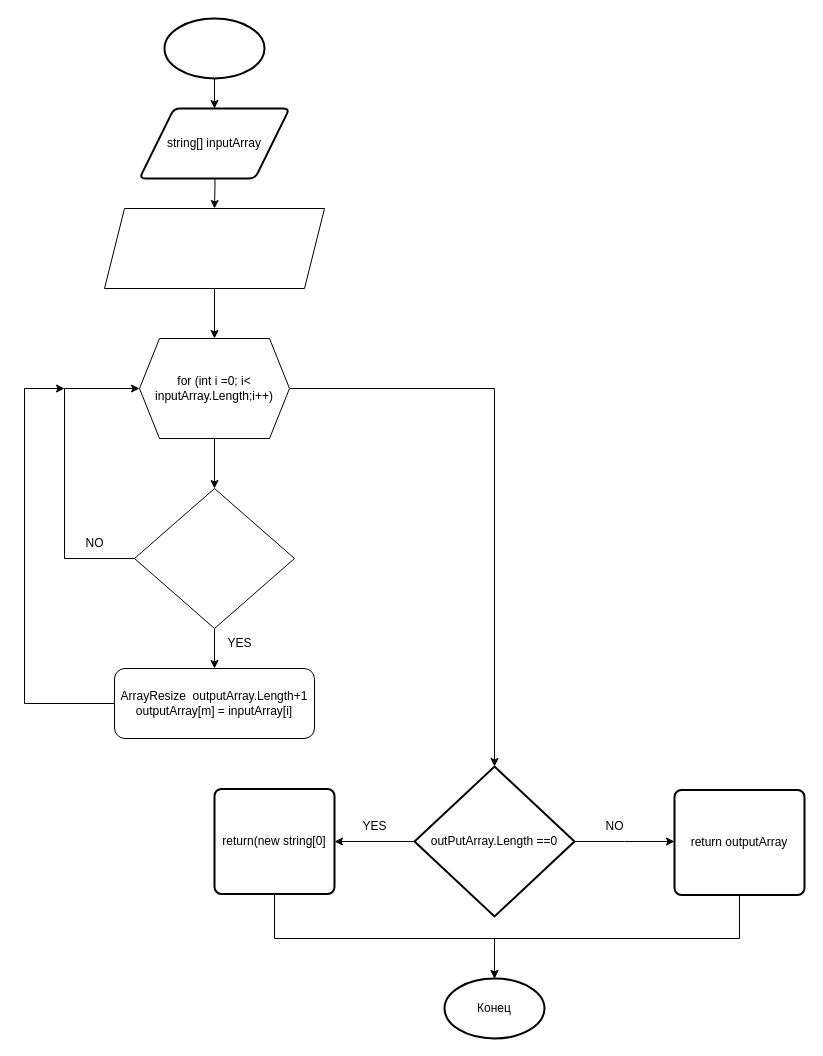
Image size: 823x1056. Some labels were removed from this diagram. The centre of each missing label's shape, as x and y in pixels:
inputArray[i] <=3: point 214,558
string[] outputArray = new string[0] int m = 0: point 214,248
Начало: point 214,48
